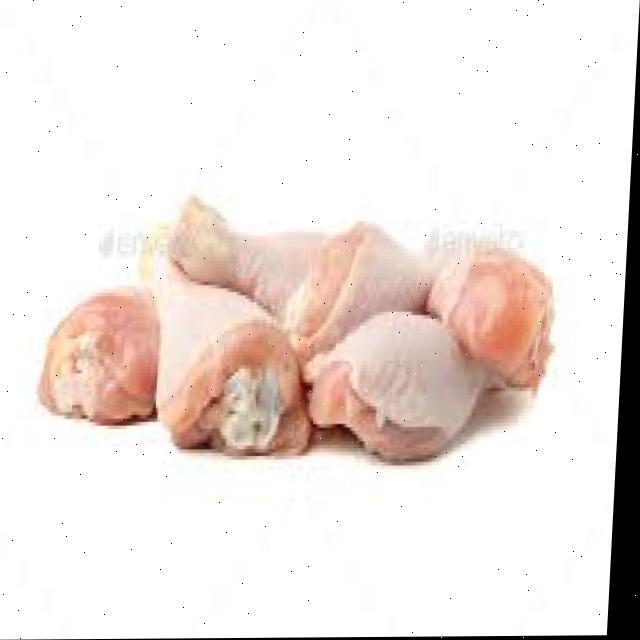leg: (129, 232, 311, 469), (165, 188, 432, 342), (316, 312, 492, 470), (434, 234, 566, 388), (51, 272, 170, 428)
